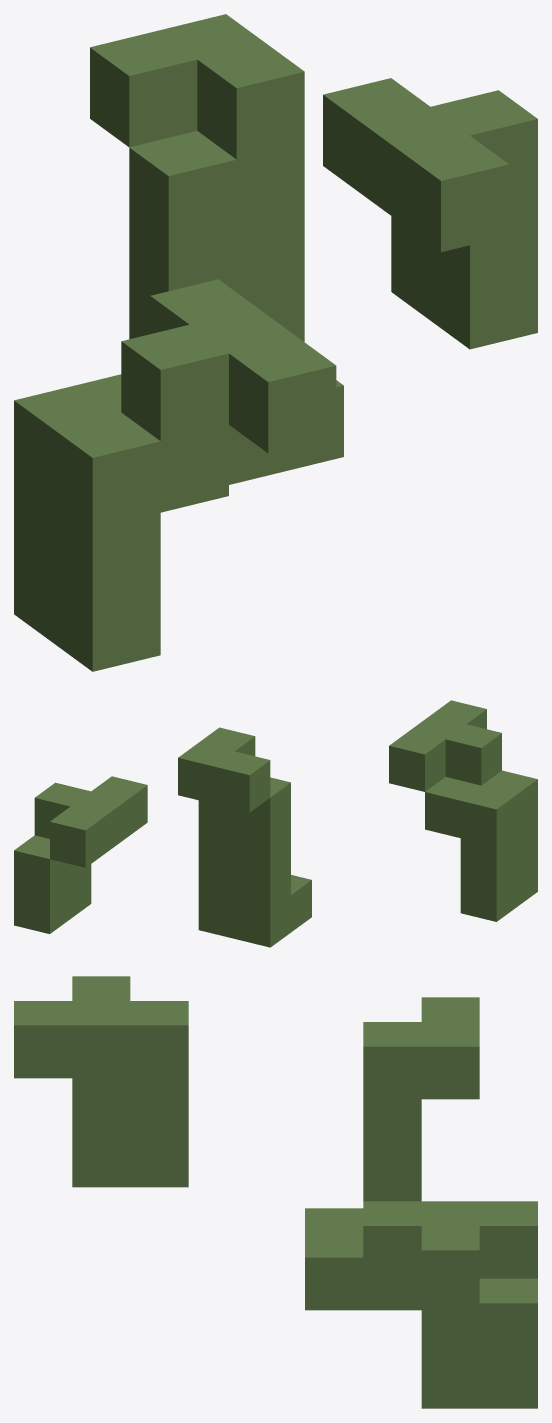
File: grass_tuft_v2_far.glb
3 renders of one model, top to bottom at view 1: azimuth 30°, elevation 25°; view 2: azimuth 150°, elevation 25°; view 3: azimuth 270°, elevation 25°, orthographic. The views are drawn at different scales.
Visible parts, largest first — view 1: grass_tuft_v2_far; view 2: grass_tuft_v2_far; view 3: grass_tuft_v2_far.
Boxes of the visible parts, x1,y1,x2,y2 form: grass_tuft_v2_far: (14, 14, 537, 671); grass_tuft_v2_far: (14, 700, 537, 947); grass_tuft_v2_far: (14, 976, 537, 1408).
Size of the model in its own units: 1.25 by 0.625 by 1.12.
1 material, 1 textured.
